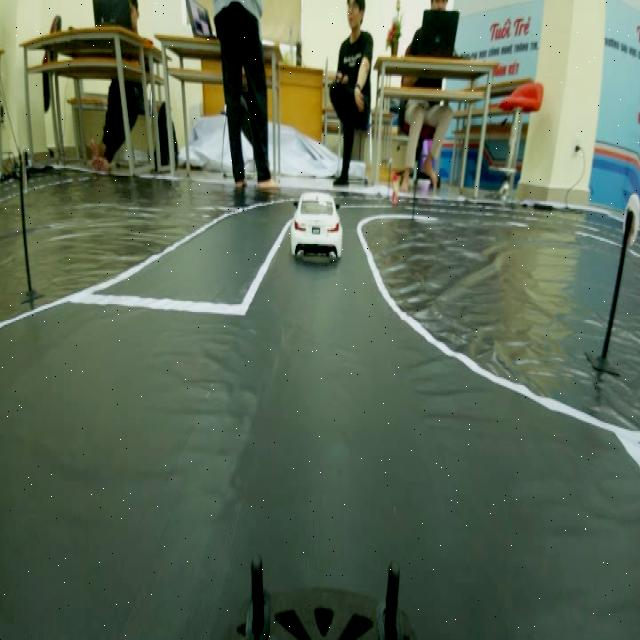car: (286, 180, 348, 257)
